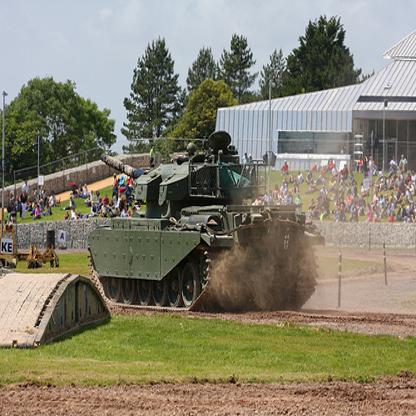Tank: (81, 132, 327, 317)
